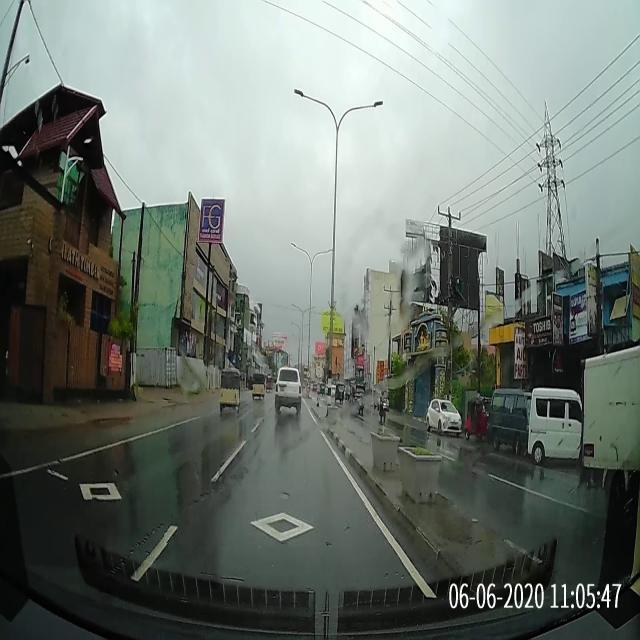diamond: (164, 504, 397, 543)
